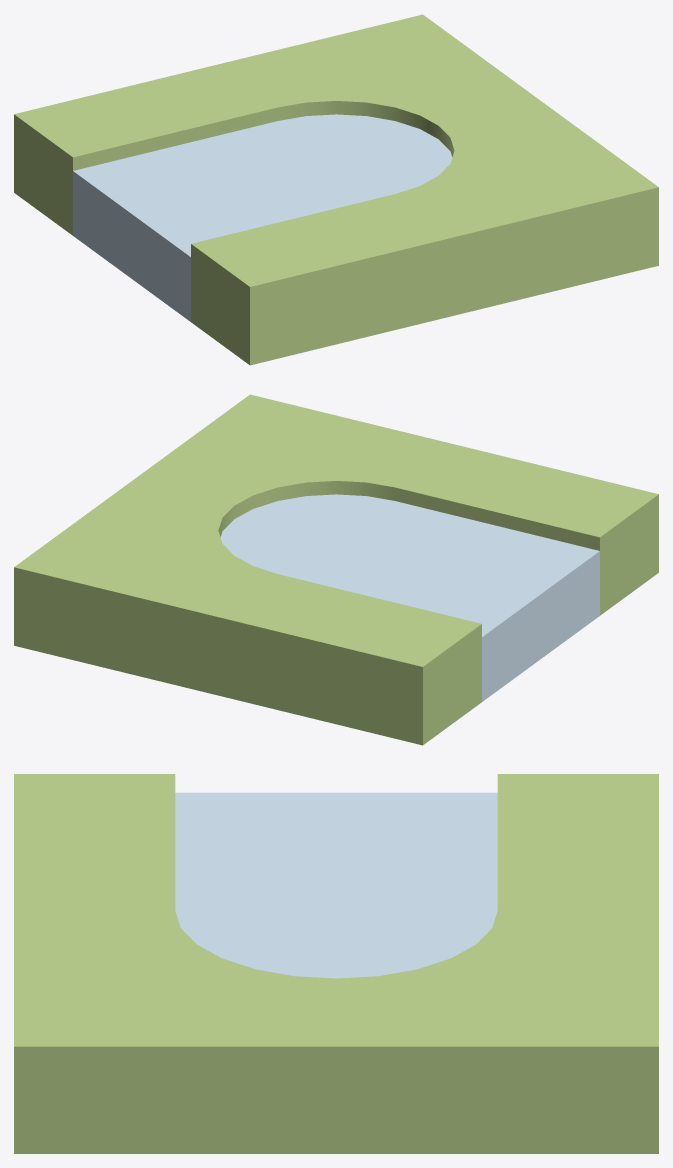
Rendered from tile152.glb.
3 renders of one model, top to bottom at view 1: azimuth 30°, elevation 25°; view 2: azimuth 150°, elevation 25°; view 3: azimuth 270°, elevation 25°, orthographic. The views are drawn at different scales.
Parts seen in each view (by area): view 1: tile152; view 2: tile152; view 3: tile152.
Part boxes in pixels (<box>): tile152: <box>14,14,658,365</box>; tile152: <box>14,394,658,745</box>; tile152: <box>14,774,658,1153</box>.
Bounding box in the file's own units: 1 × 0.1833 × 1.
